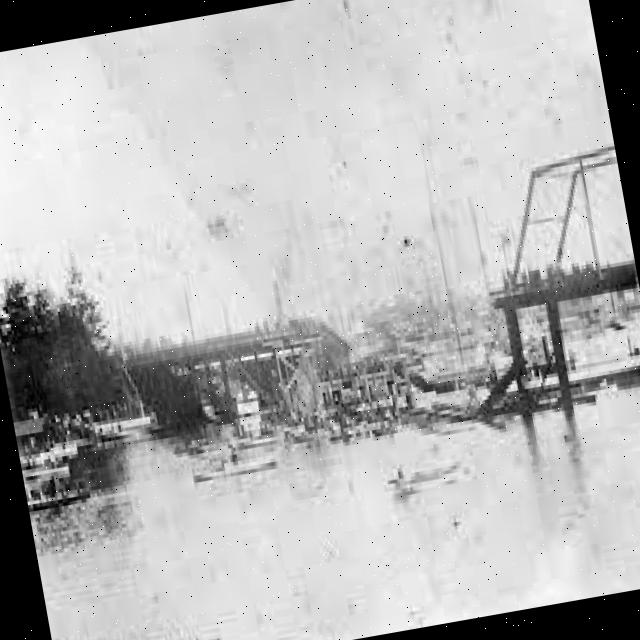bridge collapse: (190, 122, 636, 502)
